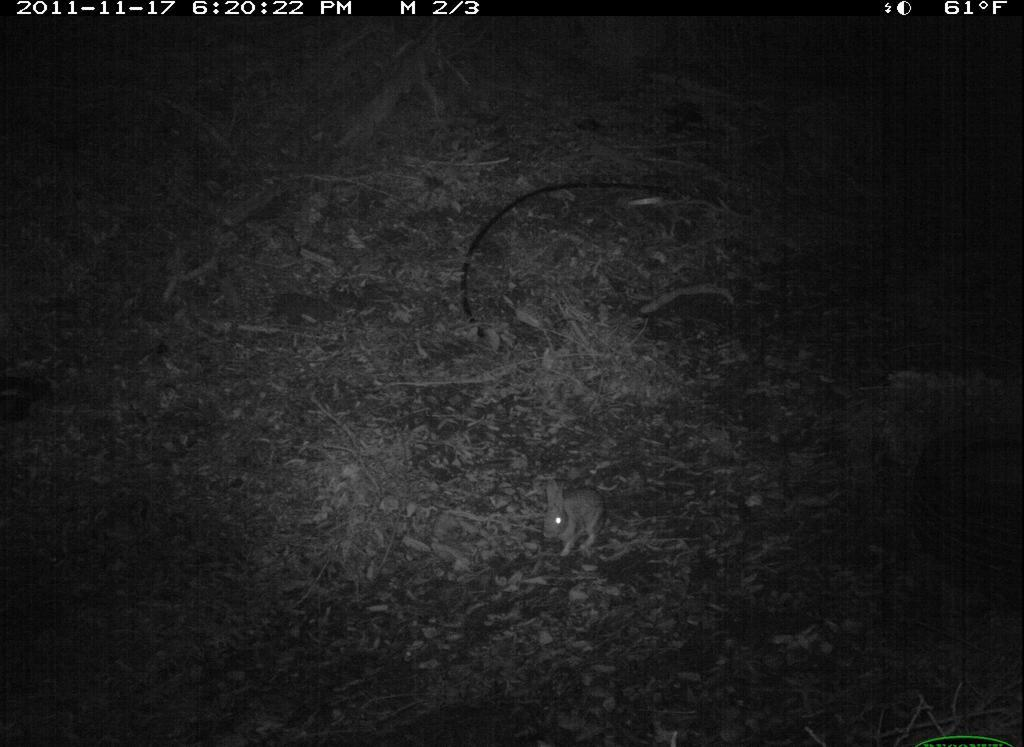rabbit: (538, 477, 610, 564)
